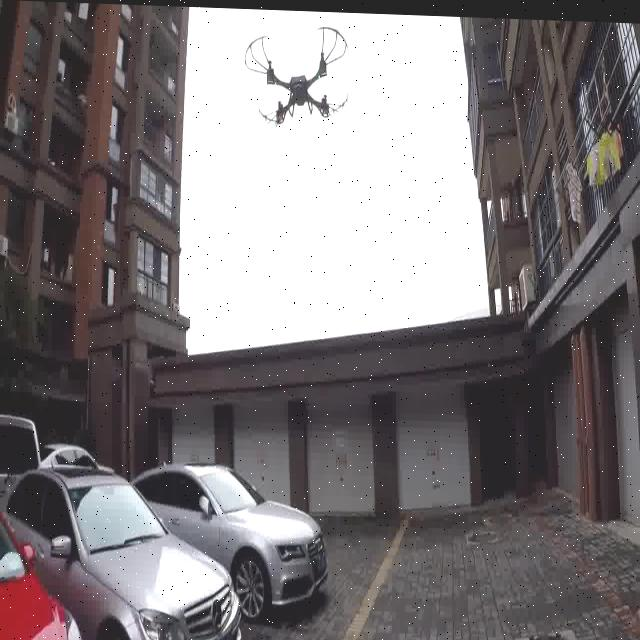drone: (242, 7, 380, 129)
